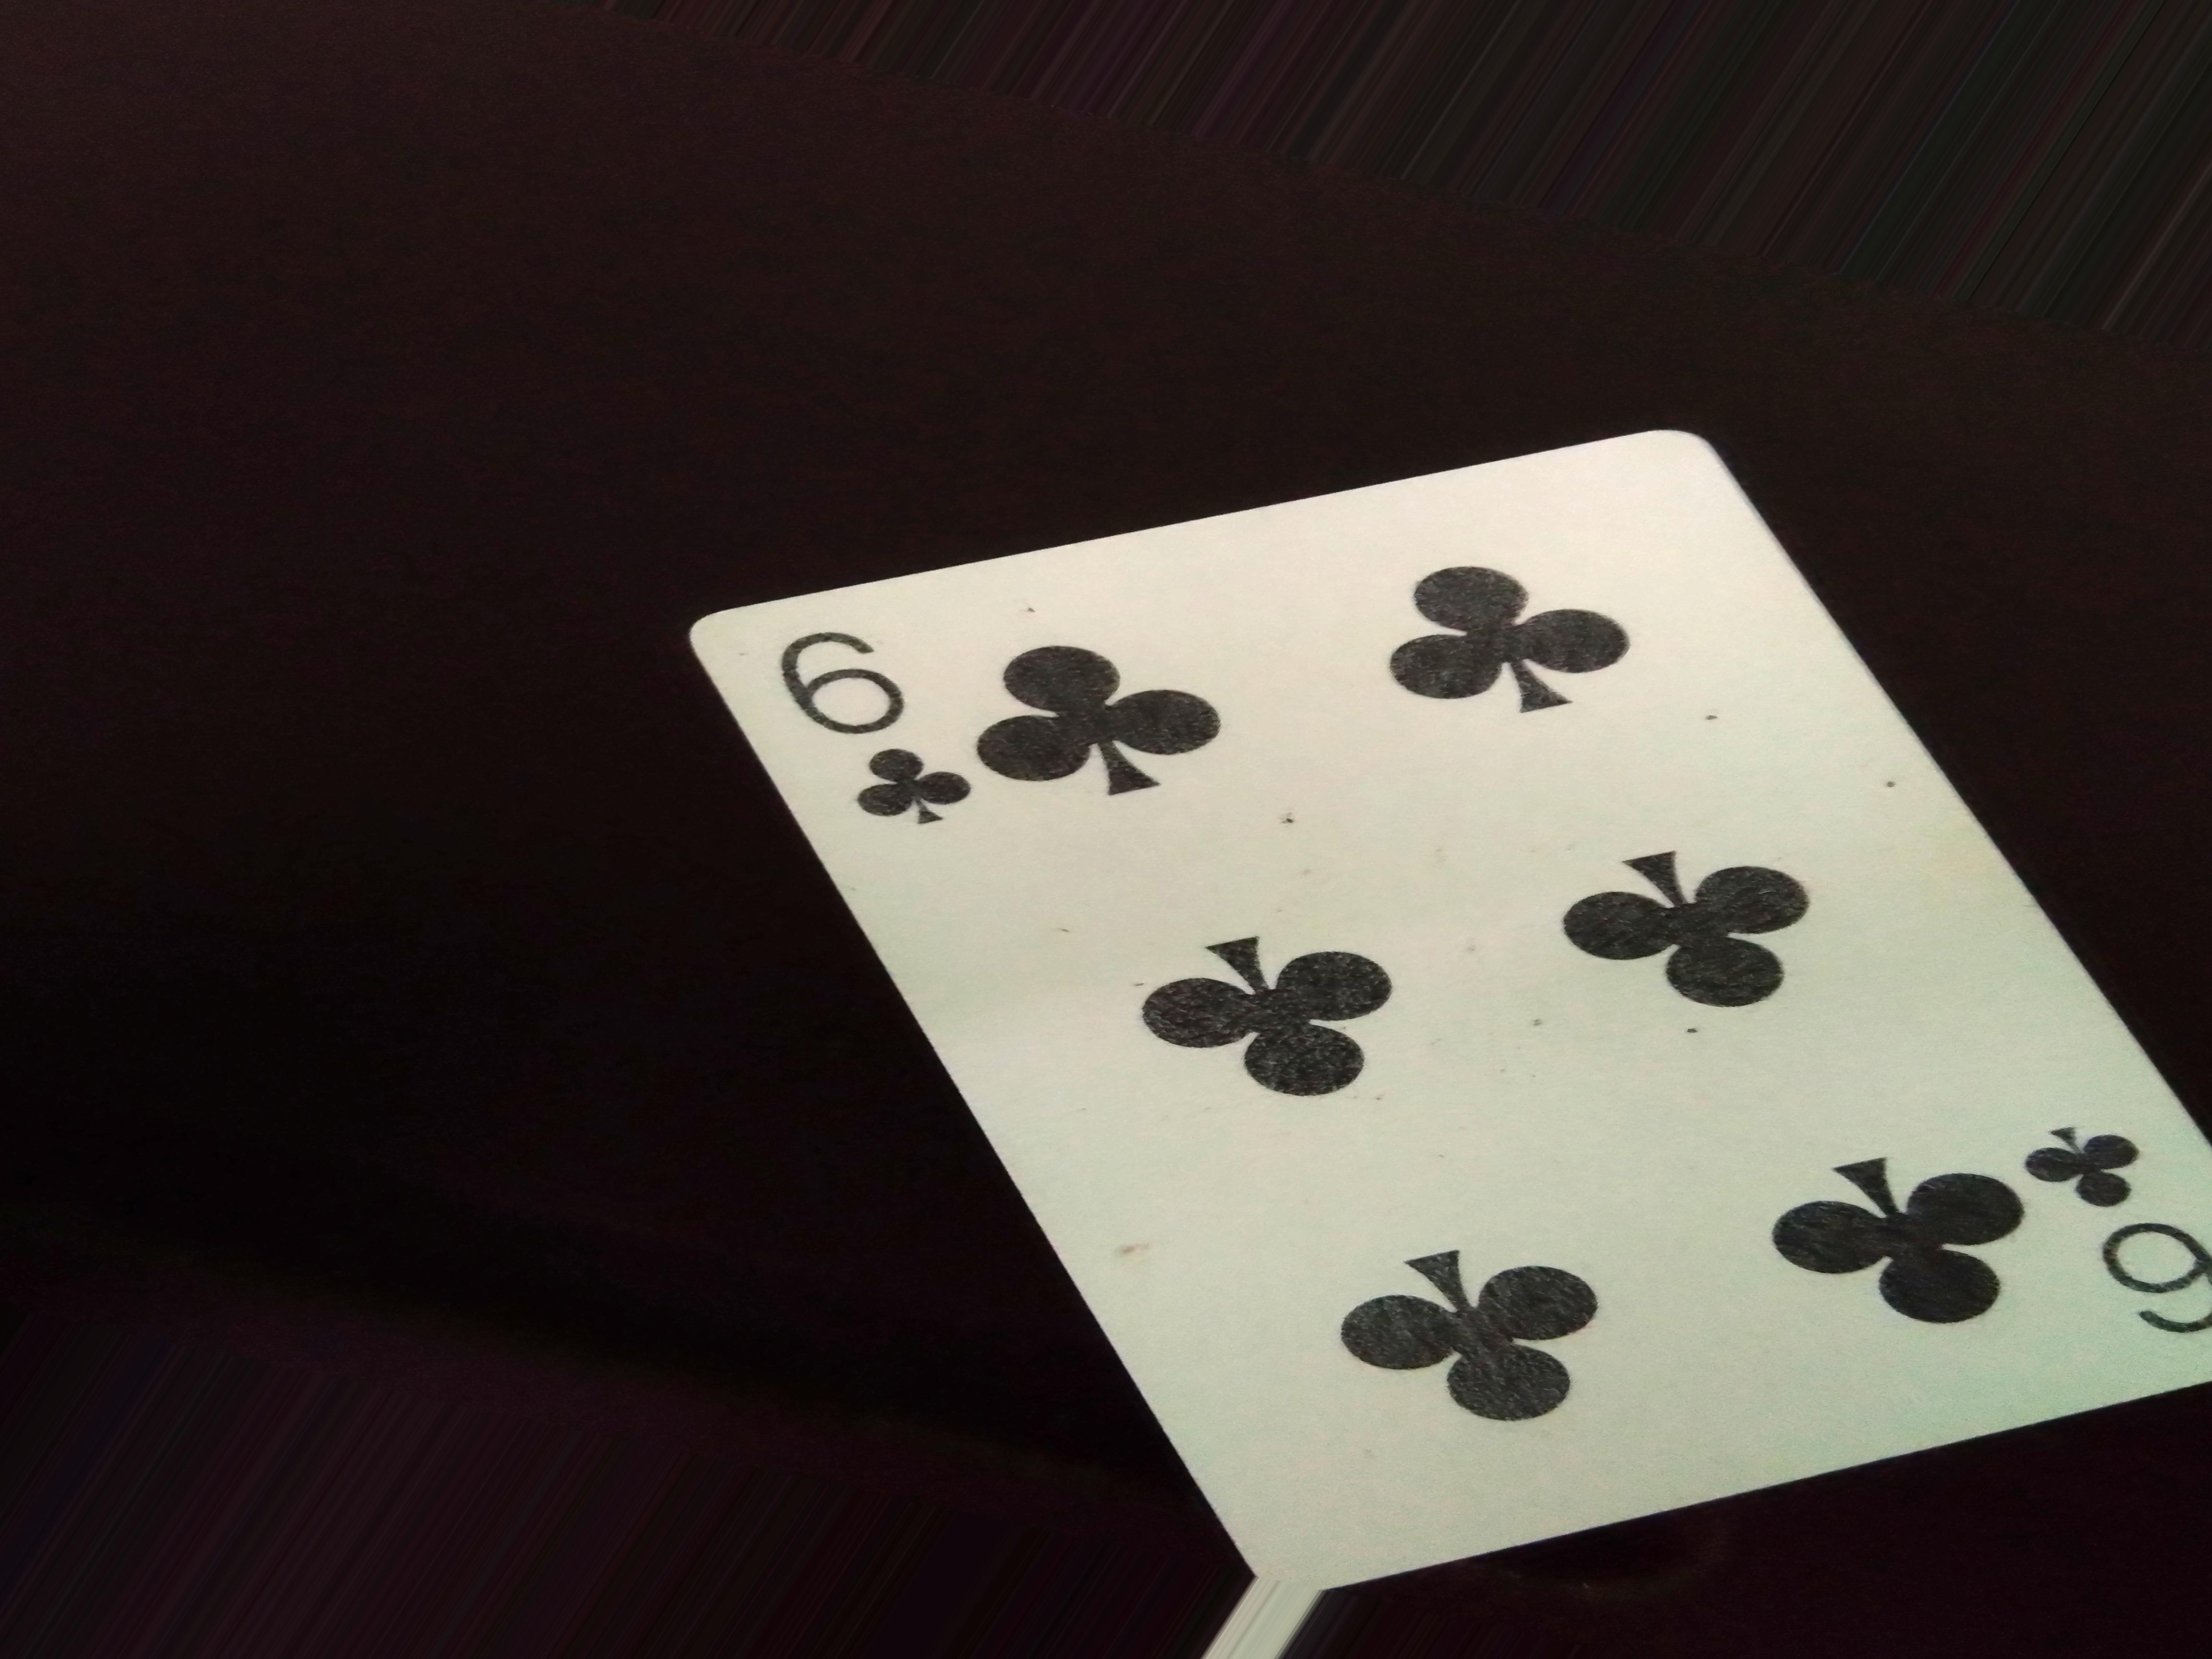6C: (761, 620, 989, 849)
